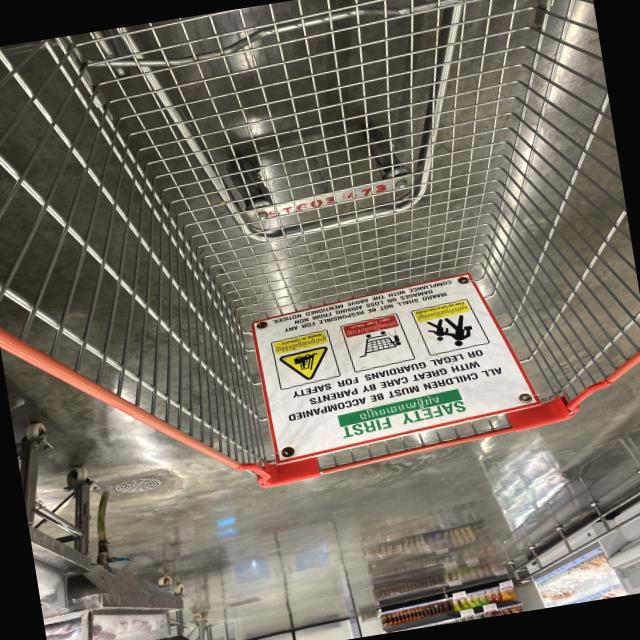Yolov11_80vkh: (356, 393, 445, 423), (414, 303, 469, 322), (275, 335, 327, 354), (345, 319, 398, 337)
